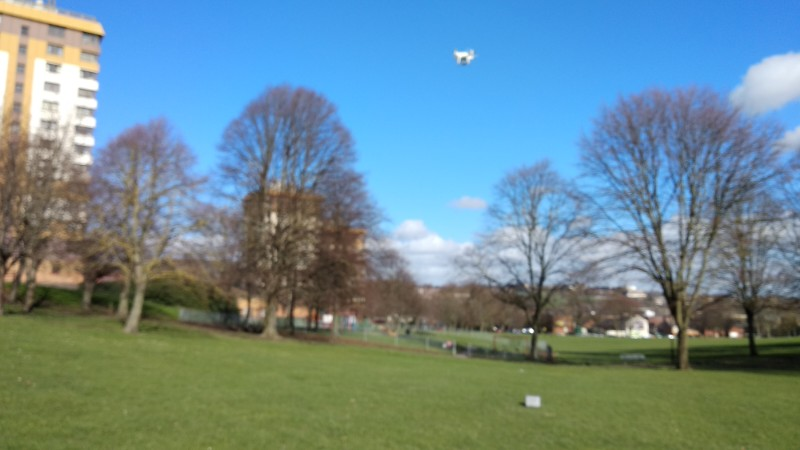drone: (449, 47, 479, 67)
